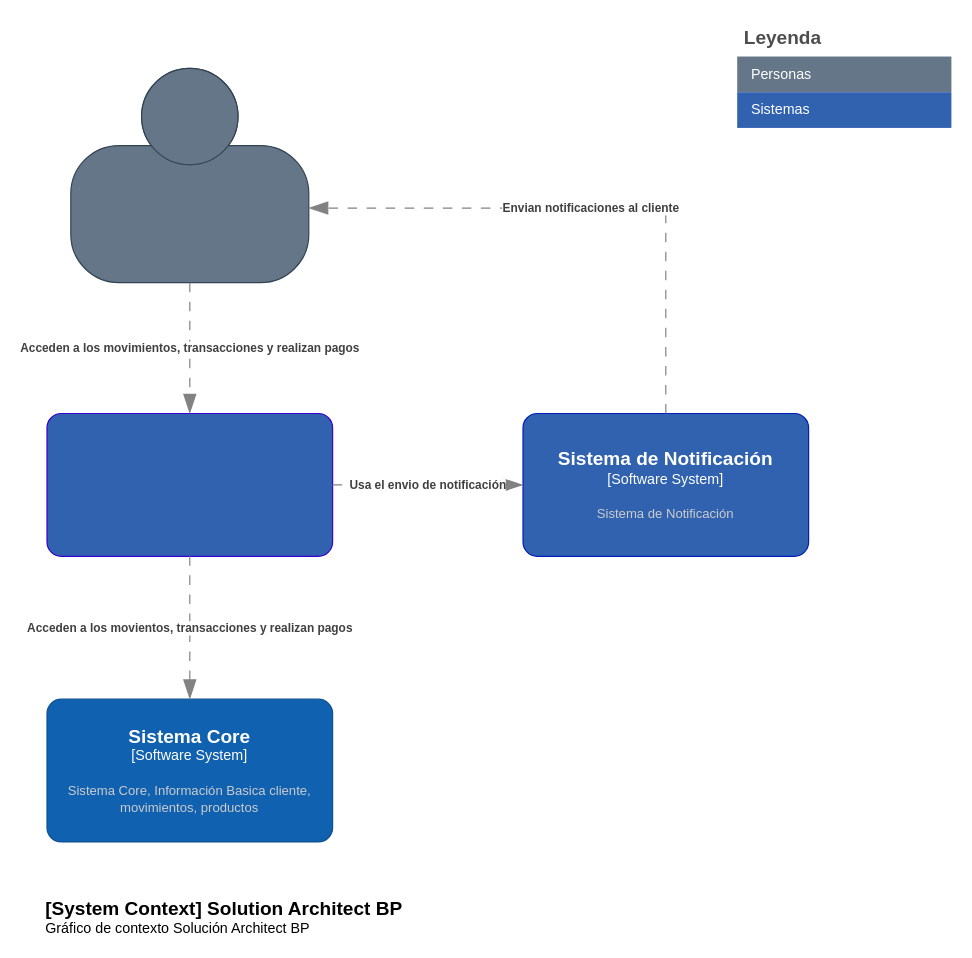
This 972x958 diagram has some shape labels left out. Each missing label, with the centre of its shape:
Cliente BP [Person] Cliente BP: the point at 189,175
Sistema de Banca Electrónica [Software System] Sistema de Banca Electrónica: the point at 189,484
